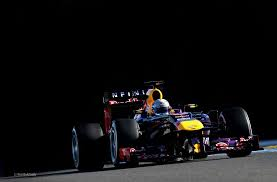f1_car: (68, 74, 270, 178)
